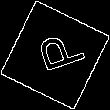P_W: (25, 29, 85, 81)
